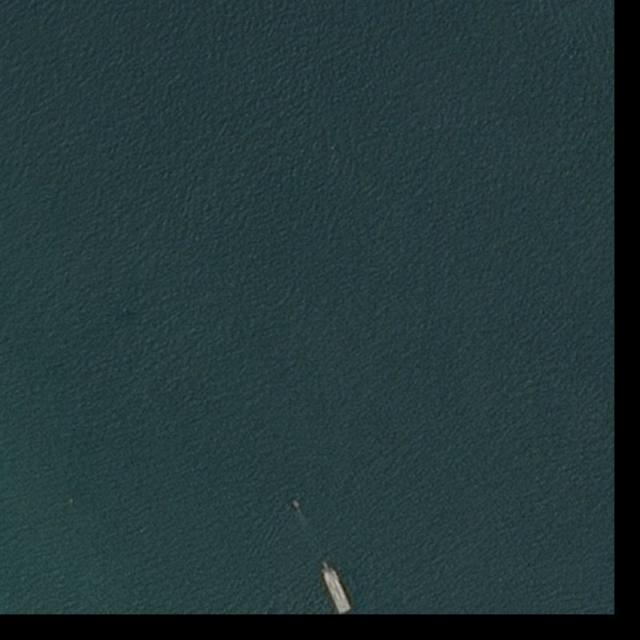ship: (317, 558, 354, 614), (291, 499, 300, 509)
